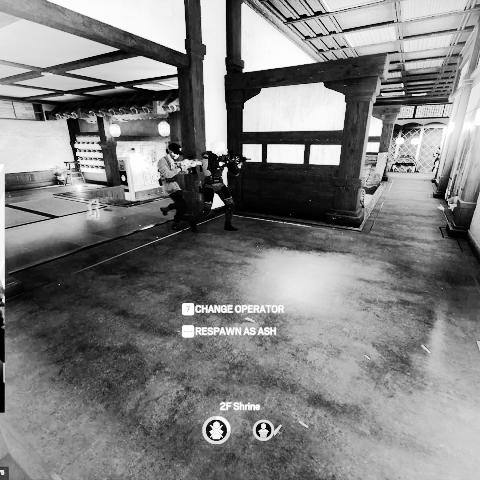Character: (188, 140, 252, 234), (156, 142, 203, 233), (432, 144, 443, 173)
Head: (166, 142, 182, 160), (210, 140, 228, 156), (437, 146, 442, 151)
